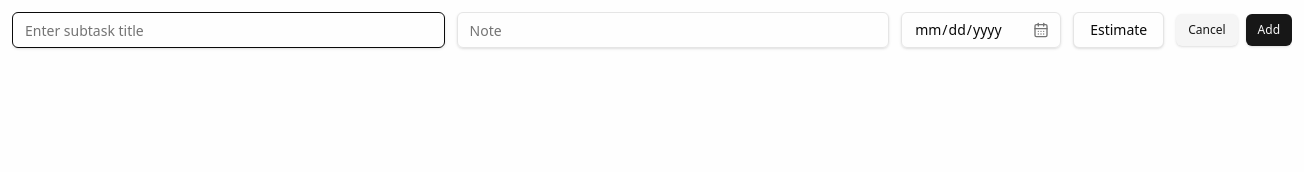
SubtaskCreateForm › shows estimates behind a dropdown in the inline desktop layout
Expected: the field labelled "Estimated Hours" is not shown
Press the mouse on the button "Estimate" at [1119, 30], box [1073,12,1164,48]
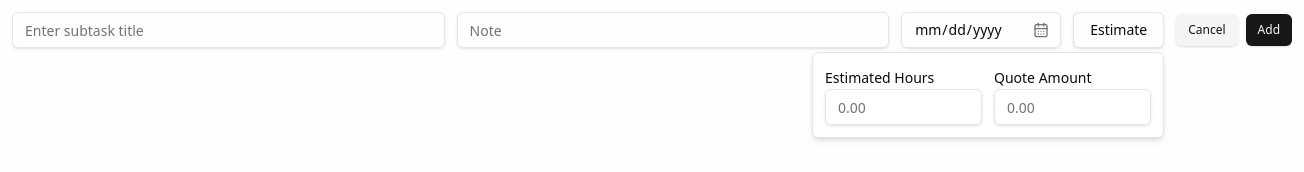
Expected: the number field labelled "Estimated Hours" is shown, [825,89,982,125]
Expected: the number field labelled "Quote Amount" is shown, [994,89,1151,125]
